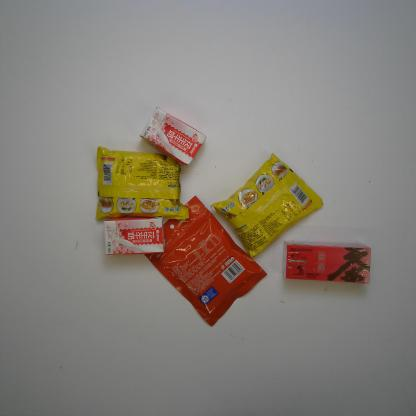Dried Fruit: (144, 194, 268, 332)
Instant Drink: (282, 239, 372, 287)
Instant Noodles: (209, 151, 324, 259), (95, 145, 190, 222)
Milk: (137, 104, 209, 168), (102, 215, 166, 257)
